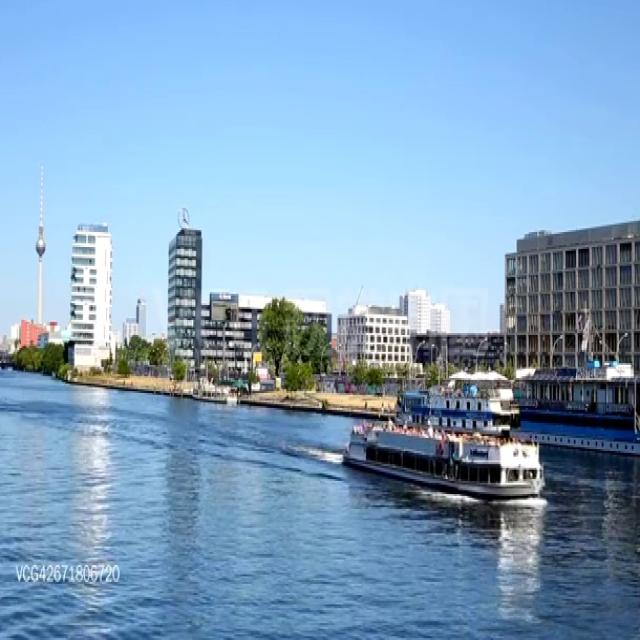passenger ship: (347, 412, 542, 502), (508, 365, 640, 455), (394, 374, 509, 438), (192, 377, 239, 402)
